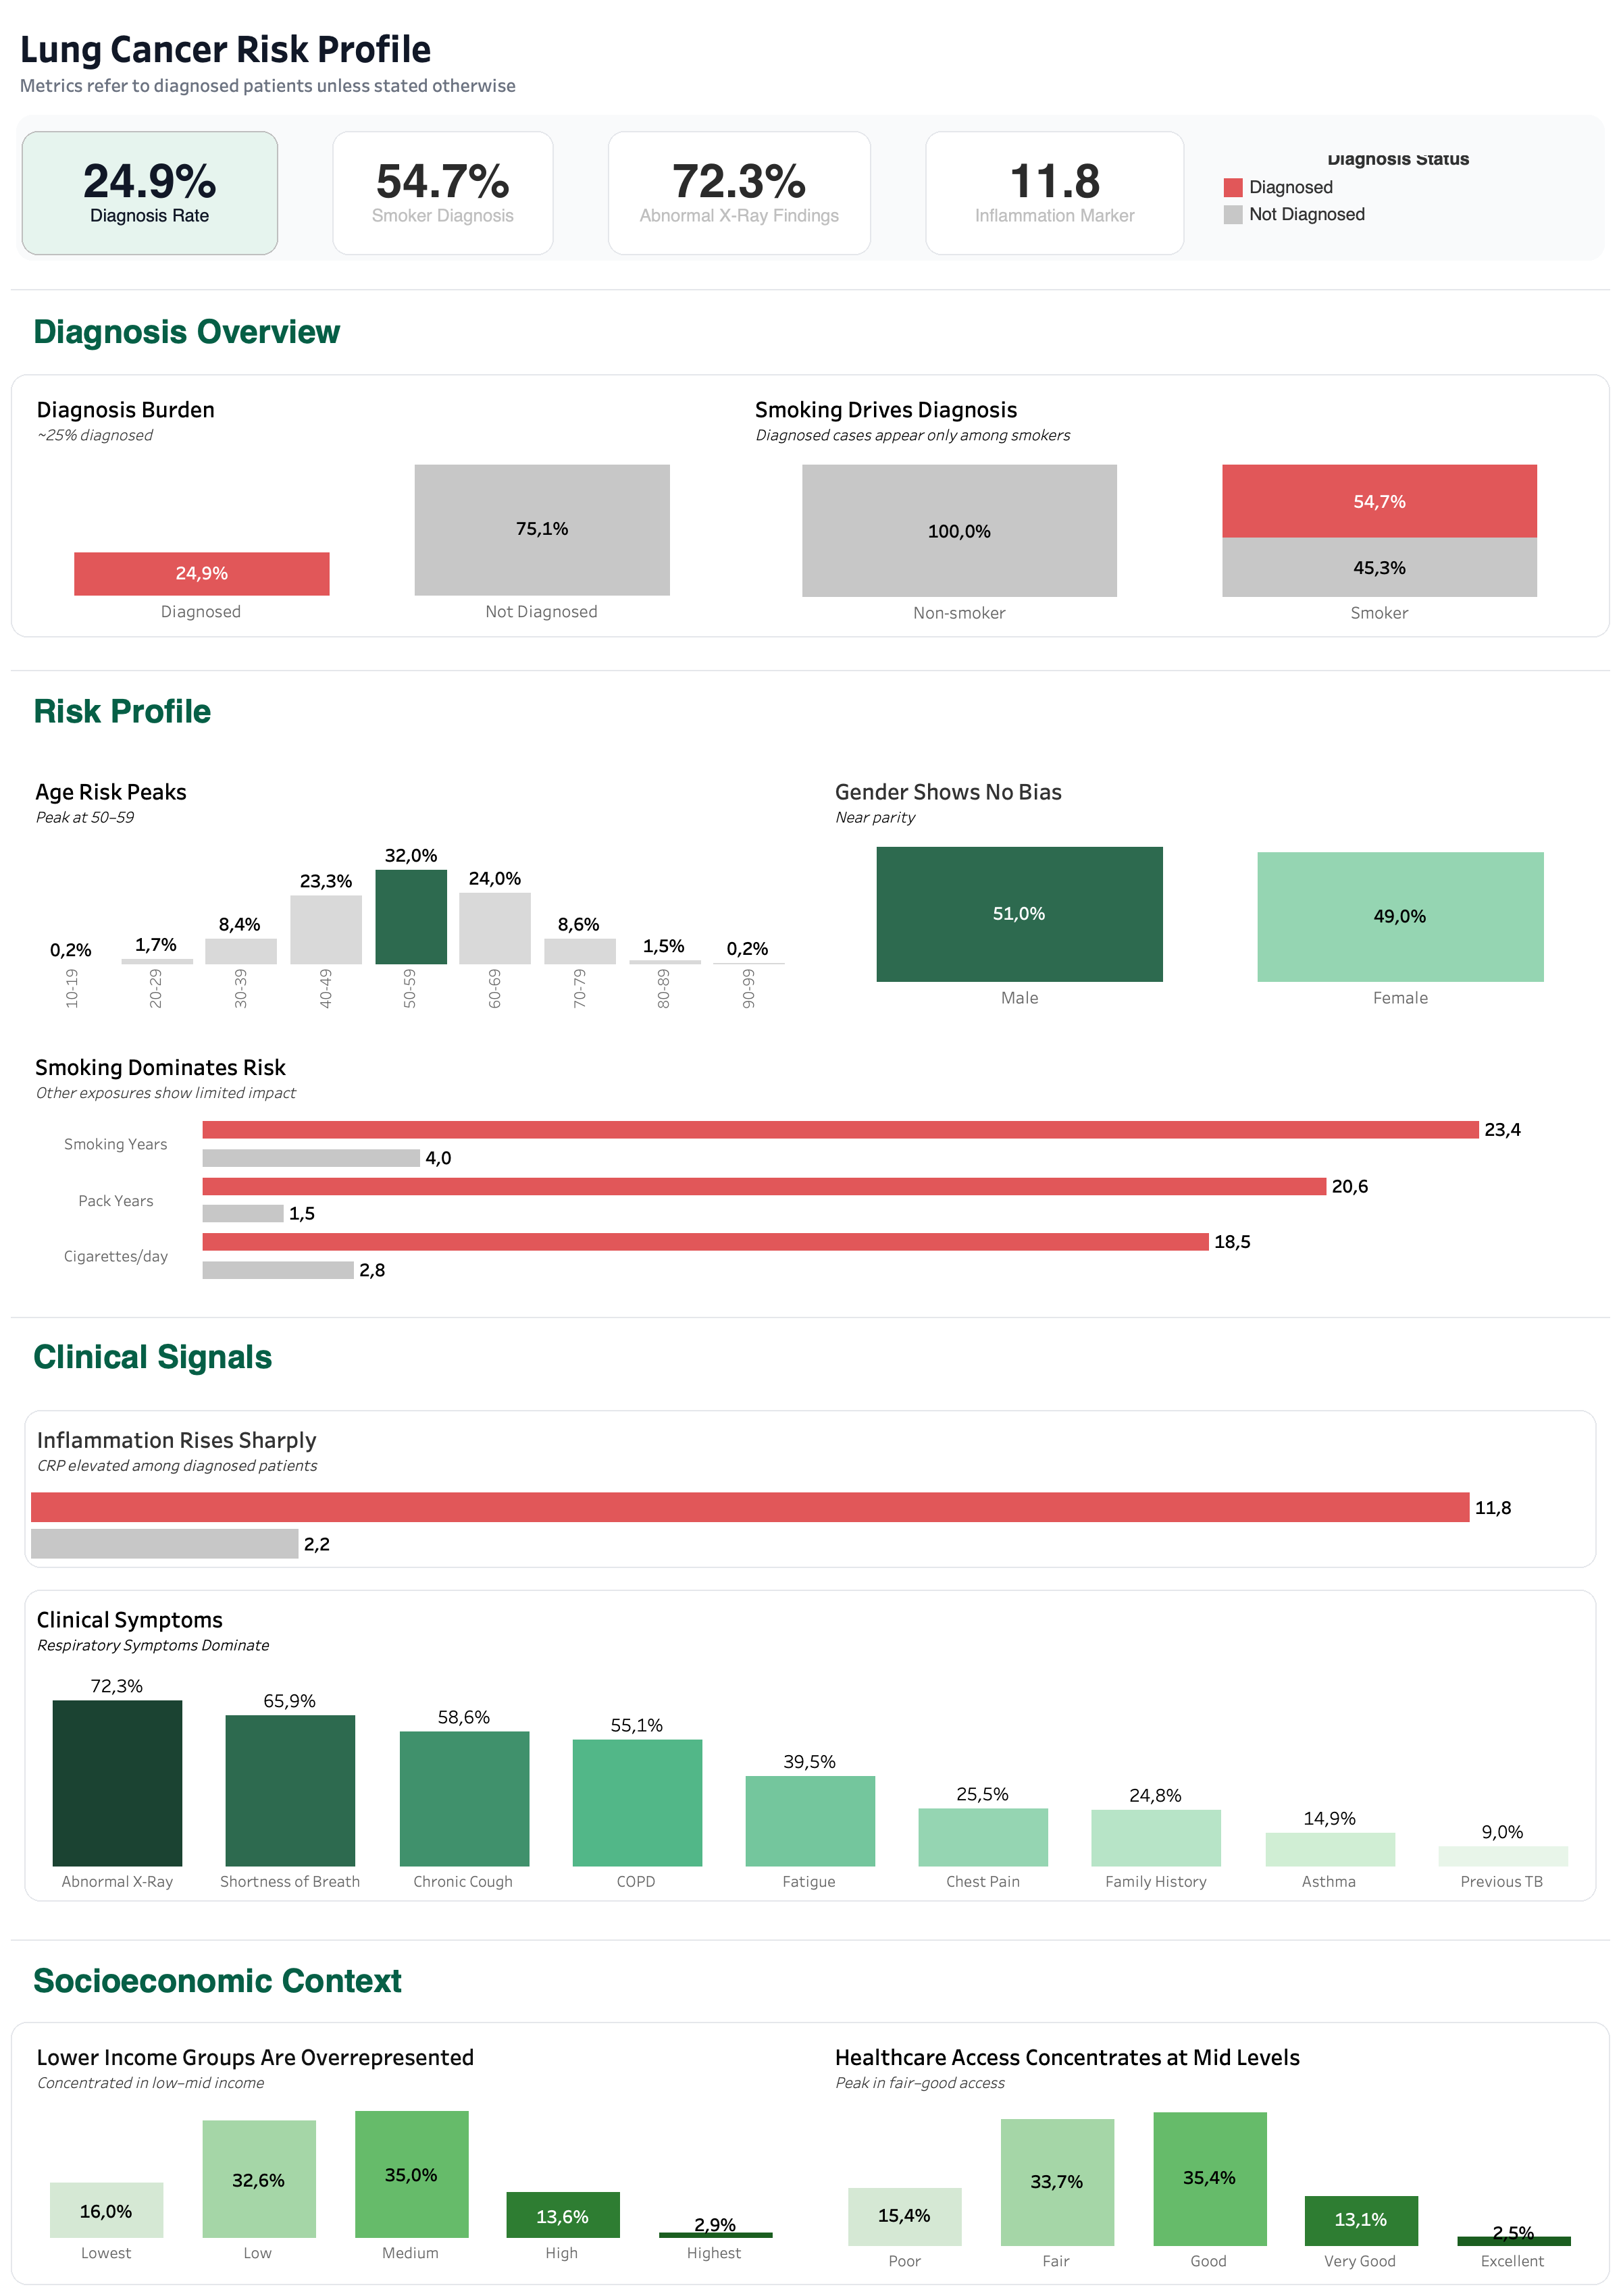

The page's visual inventory and layout, read from the dashboard file:
{"tool":"tableau","page":{"name":"Dashboard 1","canvas":[1200,1700],"ordinal":0},"visuals":[{"type":"text","box":[8,8,1174,73]},{"type":"text","box":[12,93,198,100]},{"type":"blank","box":[210,93,32,100]},{"type":"text","box":[242,93,172,100]},{"type":"blank","box":[414,93,32,100]},{"type":"text","box":[446,93,203,100]},{"type":"blank","box":[649,93,32,100]},{"type":"text","box":[681,93,200,100]},{"type":"legend","title":"Smoking Status","param":"[federated.0sbfgxy1ojtcr615kbcy215ype9e].[none:lung_cancer_risk:nk]","box":[885,97,299,92]},{"type":"blank","box":[8,197,1184,9]},{"type":"blank","box":[8,206,1184,29]},{"type":"text","box":[8,235,1184,42]},{"type":"worksheet","title":"Target Distribution","mark":"Bar","rows":["age"],"cols":["lung_cancer_risk"],"box":[9,278,532,193]},{"type":"worksheet","title":"Smoking Status","mark":"Bar","cols":["smoker"],"box":[541,278,650,193]},{"type":"blank","box":[8,472,1184,41]},{"type":"text","box":[8,513,1184,48]},{"type":"worksheet","title":"Age Distribution","mark":"Bar","cols":["Calculation_1066039028420621"],"box":[8,561,592,195]},{"type":"worksheet","title":"Gender Distribution","mark":"Bar","cols":["gender"],"box":[600,561,592,195]},{"type":"worksheet","title":"Lifestyle Metrics","mark":"Bar","rows":["lung_cancer_risk"],"box":[8,756,1184,199]},{"type":"blank","box":[8,955,1184,39]},{"type":"text","box":[8,994,1184,42]},{"type":"worksheet","title":"CRP Level","mark":"Bar","rows":["lung_cancer_risk"],"cols":["crp_level"],"box":[8,1036,1184,133]},{"type":"worksheet","title":"Medical Profile","mark":"Bar","rows":["Calculation_0456916221755392"],"cols":["Pivot Field Names"],"box":[8,1169,1184,247]},{"type":"text","box":[8,1455,1184,42]},{"type":"worksheet","title":"Income Level","mark":"Bar","rows":["age"],"cols":["income_level"],"box":[9,1498,591,193]},{"type":"worksheet","title":"Healthcare Access","mark":"Automatic","cols":["healthcare_access"],"box":[600,1498,591,193]}]}

Visuals, with their boxes in screenshot pixels (x1, y1, x2, y2), scaled from the page's 1200x1700 canvas onto the 1621x2296 screenshot:
text: BBox(11, 11, 1597, 109)
text: BBox(16, 126, 284, 261)
blank: BBox(284, 126, 327, 261)
text: BBox(327, 126, 559, 261)
blank: BBox(559, 126, 602, 261)
text: BBox(602, 126, 877, 261)
blank: BBox(877, 126, 920, 261)
text: BBox(920, 126, 1190, 261)
"Smoking Status" legend: BBox(1195, 131, 1599, 255)
blank: BBox(11, 266, 1610, 278)
blank: BBox(11, 278, 1610, 317)
text: BBox(11, 317, 1610, 374)
"Target Distribution" worksheet (Bar marks): BBox(12, 375, 731, 636)
"Smoking Status" worksheet (Bar marks): BBox(731, 375, 1609, 636)
blank: BBox(11, 637, 1610, 693)
text: BBox(11, 693, 1610, 758)
"Age Distribution" worksheet (Bar marks): BBox(11, 758, 810, 1021)
"Gender Distribution" worksheet (Bar marks): BBox(810, 758, 1610, 1021)
"Lifestyle Metrics" worksheet (Bar marks): BBox(11, 1021, 1610, 1290)
blank: BBox(11, 1290, 1610, 1342)
text: BBox(11, 1342, 1610, 1399)
"CRP Level" worksheet (Bar marks): BBox(11, 1399, 1610, 1579)
"Medical Profile" worksheet (Bar marks): BBox(11, 1579, 1610, 1912)
text: BBox(11, 1965, 1610, 2022)
"Income Level" worksheet (Bar marks): BBox(12, 2023, 810, 2284)
"Healthcare Access" worksheet: BBox(810, 2023, 1609, 2284)
